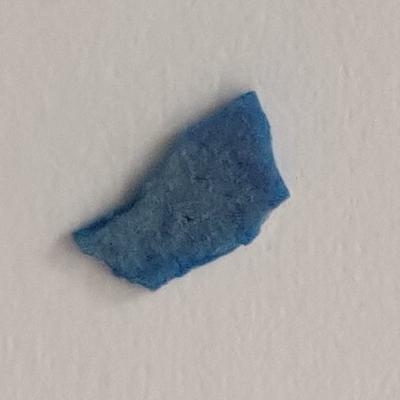plastic: (67, 86, 296, 297)
